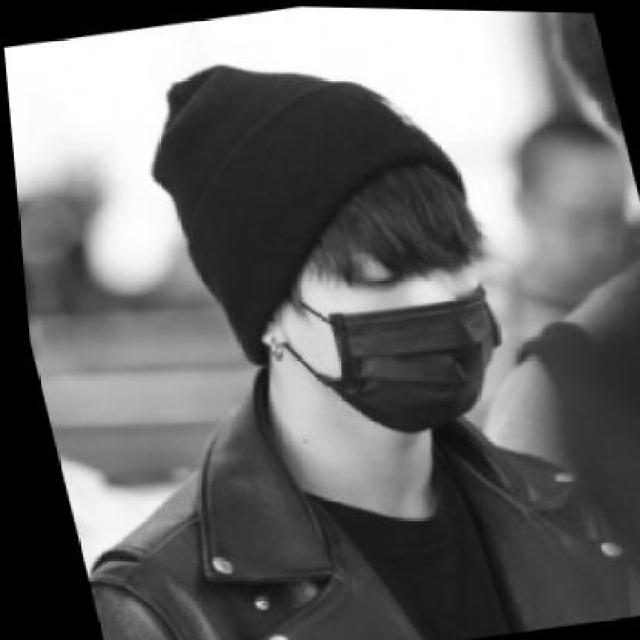hat: (114, 19, 511, 381)
